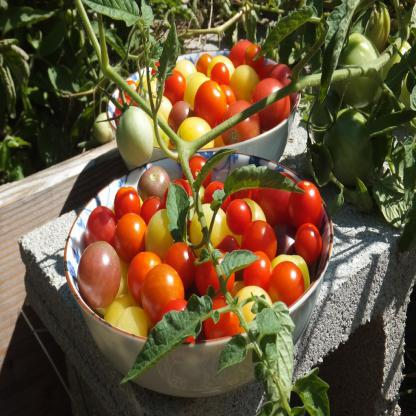tomato: (140, 262, 190, 320), (267, 258, 311, 308), (288, 176, 326, 230), (252, 78, 292, 128), (240, 218, 280, 264), (192, 79, 228, 129), (82, 203, 118, 251), (292, 220, 324, 264), (224, 195, 254, 237), (113, 184, 144, 222)
